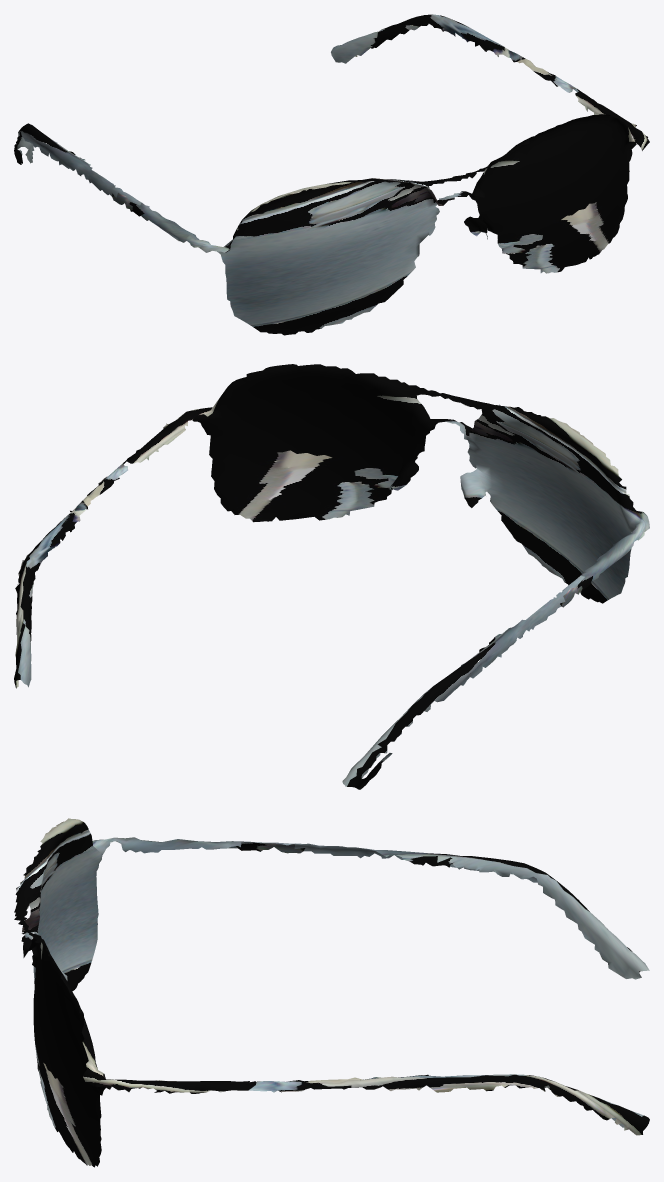
Rendered from scan_align.obj.
The picture shows the model from 3 angles, top to bottom: view 1: azimuth 30°, elevation 25°; view 2: azimuth 150°, elevation 25°; view 3: azimuth 270°, elevation 25°; orthographic projection. The views are drawn at different scales.
Bounding box in the file's own units: 0.1475 × 0.0477 × 0.1562.
